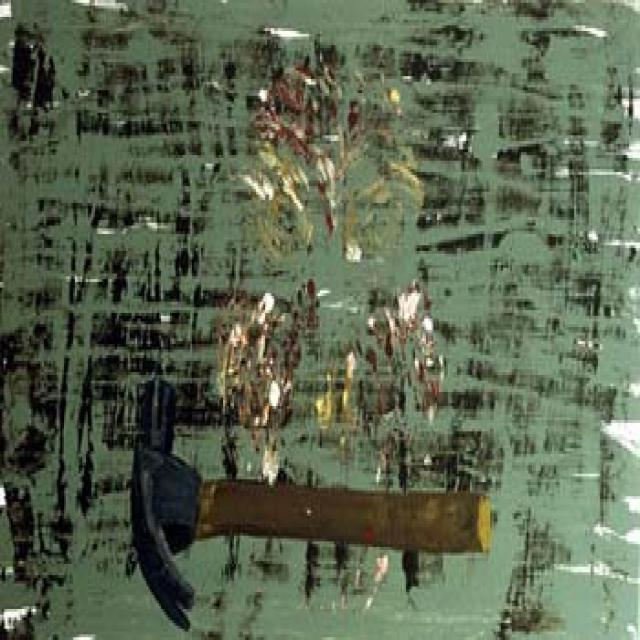hammer: (104, 353, 504, 640)
